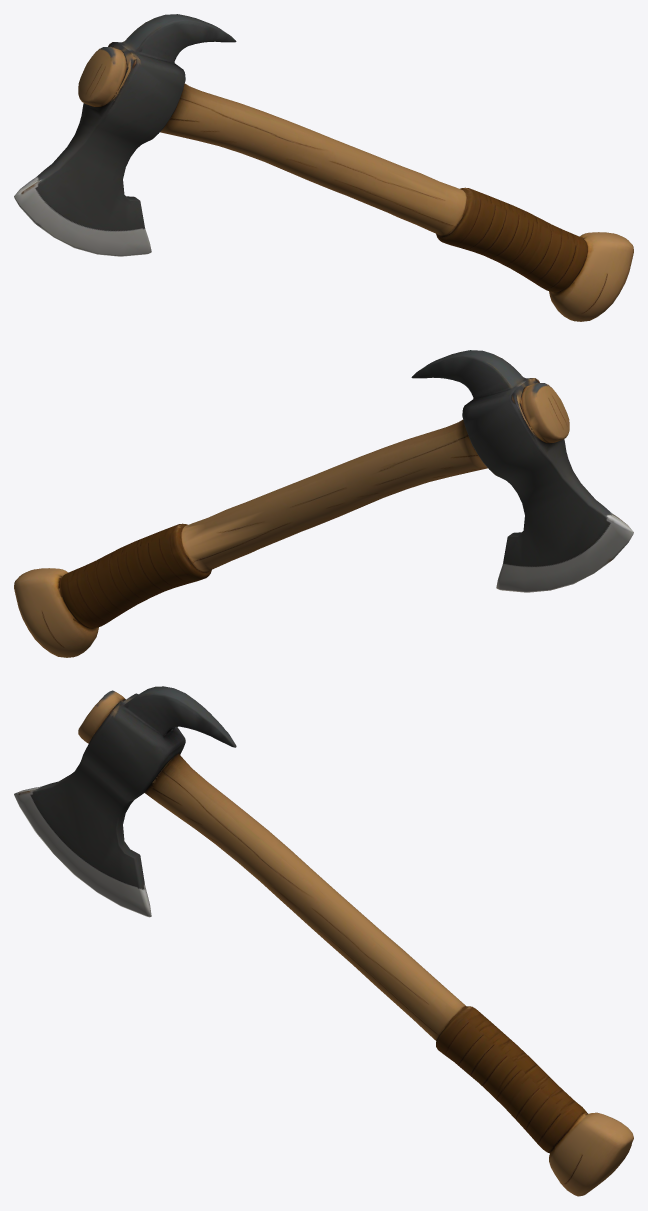
The model's file is primitive_axe_16832930_v4.glb.
The picture shows the model from 3 angles, top to bottom: view 1: azimuth 30°, elevation 25°; view 2: azimuth 150°, elevation 25°; view 3: azimuth 330°, elevation 25°; orthographic projection.
Visible parts, largest first — view 1: mesh_input; view 2: mesh_input; view 3: mesh_input.
Boxes of the visible parts, box(x1,y1,x2,y2) form: mesh_input: box(14, 14, 633, 321); mesh_input: box(14, 350, 633, 657); mesh_input: box(14, 686, 633, 1196).
Size of the model in its own units: 1.9 by 1.19 by 0.1484.
1 material, 1 textured.
